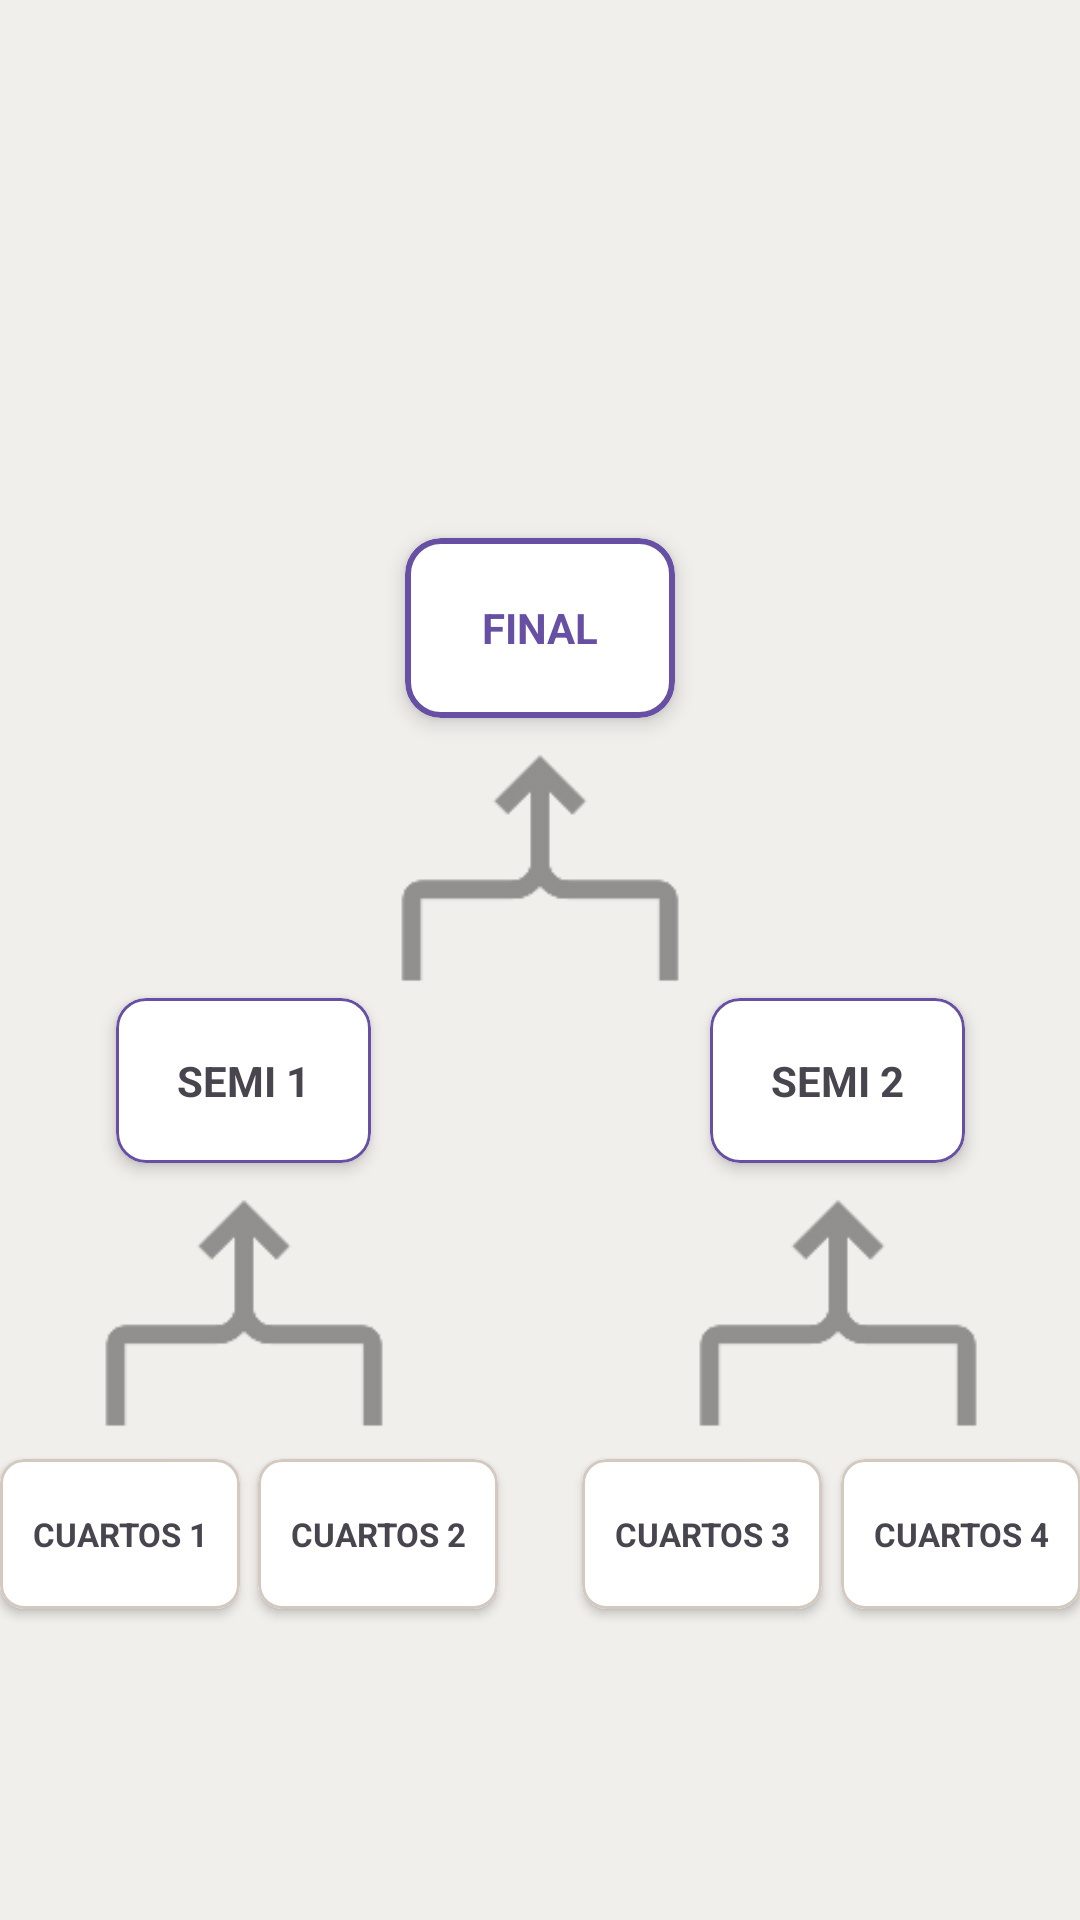

Icon bounding boxes for this 1080×1920 phone screenshot, format (x1, y1, x2, y2):
bracket: (401, 755, 679, 981), (105, 1200, 383, 1426), (699, 1200, 977, 1426)
